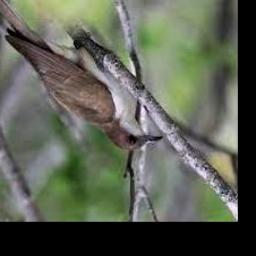Cuckoo: (0, 0, 164, 150)
